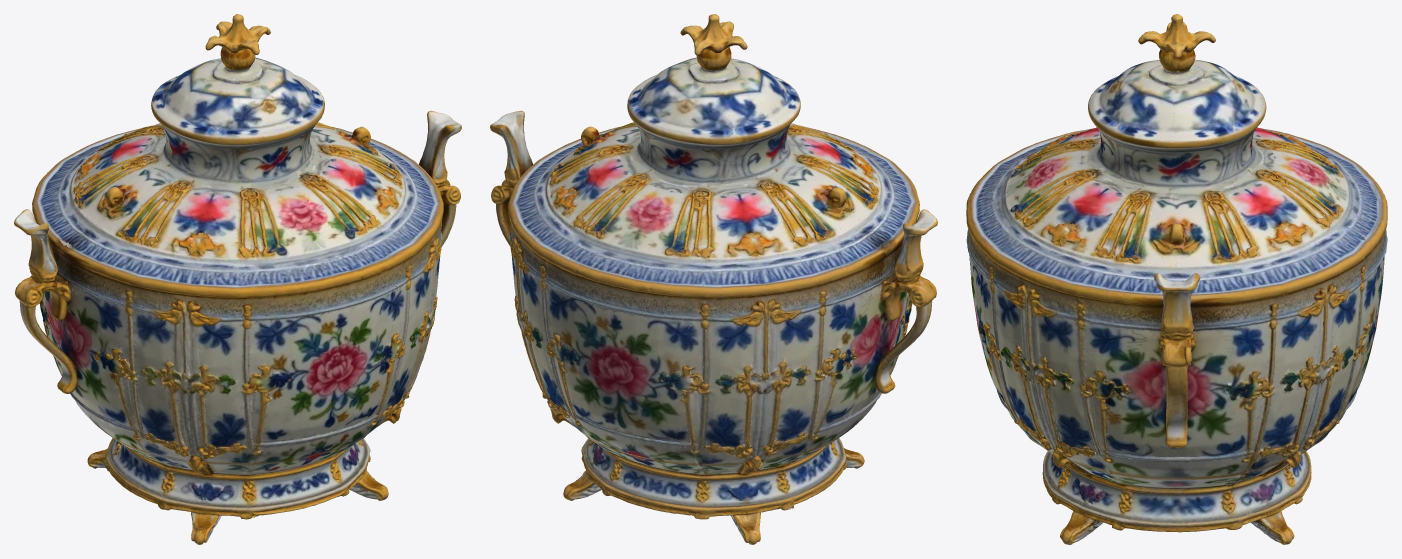
Rendered from 静物_瓶罐_Decorative Ceramic Vessel_20260324202354_opt.glb.
The picture shows the model from 3 angles, left to right: view 1: azimuth 30°, elevation 25°; view 2: azimuth 150°, elevation 25°; view 3: azimuth 270°, elevation 25°; orthographic projection. The views are drawn at different scales.
Visible parts, largest first — view 1: material_0; view 2: material_0; view 3: material_0.
Part boxes in pixels (x1,y1,x2,y2): material_0: [14, 14, 461, 544]; material_0: [490, 14, 937, 544]; material_0: [966, 14, 1387, 544].
Size of the model in its own units: 0.2914 by 0.3 by 0.2366.
Materials: 1 (1 with a texture image).
